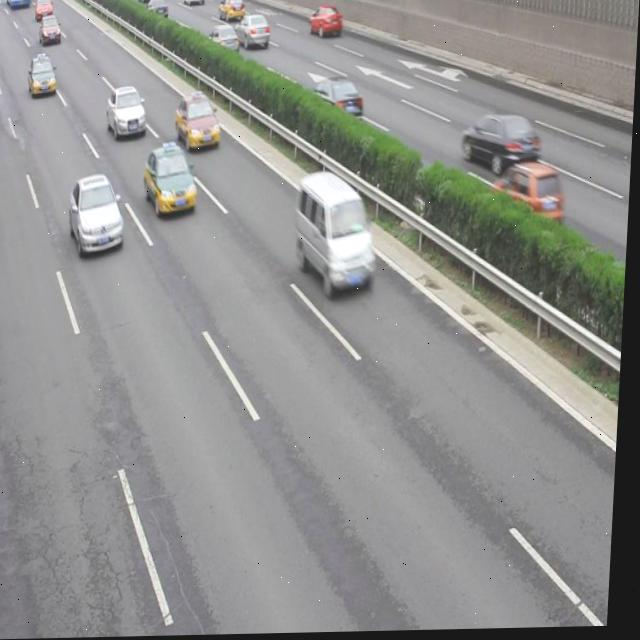car: (461, 112, 542, 174), (492, 165, 568, 231), (69, 177, 129, 259), (145, 145, 199, 218), (176, 92, 223, 152), (310, 78, 366, 125), (106, 85, 150, 142), (235, 14, 270, 52), (29, 55, 59, 97), (308, 6, 341, 42), (208, 25, 239, 56), (218, 0, 246, 24), (41, 15, 63, 45), (144, 0, 168, 21), (183, 0, 205, 6), (137, 0, 158, 6)
truck: (295, 171, 381, 298)
